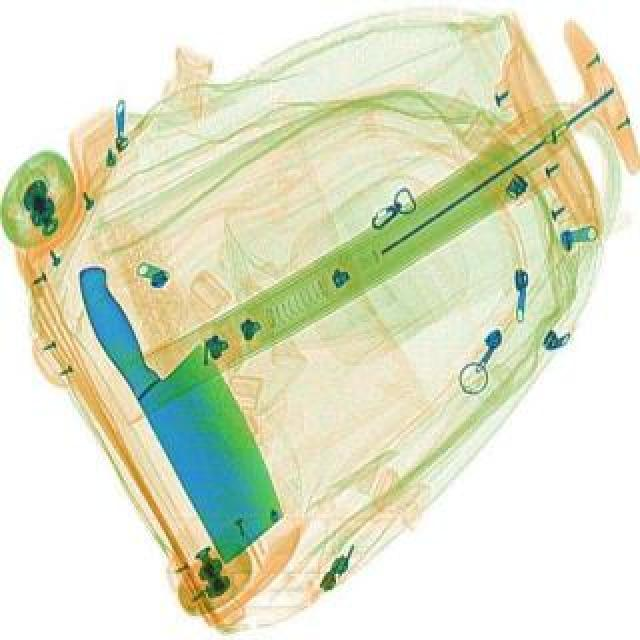knife: (64, 234, 306, 570)
